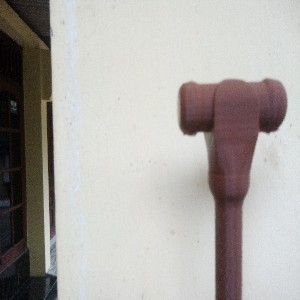palu: (178, 76, 288, 300)
